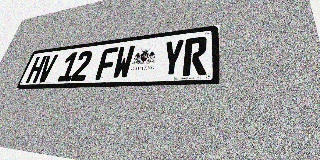1: (57, 52, 80, 82)
2: (70, 50, 94, 81)
F: (95, 47, 119, 80)
H: (25, 56, 47, 83)
R: (182, 36, 207, 76)
V: (36, 54, 58, 83)
W: (111, 45, 135, 79)
Y: (160, 39, 185, 77)
